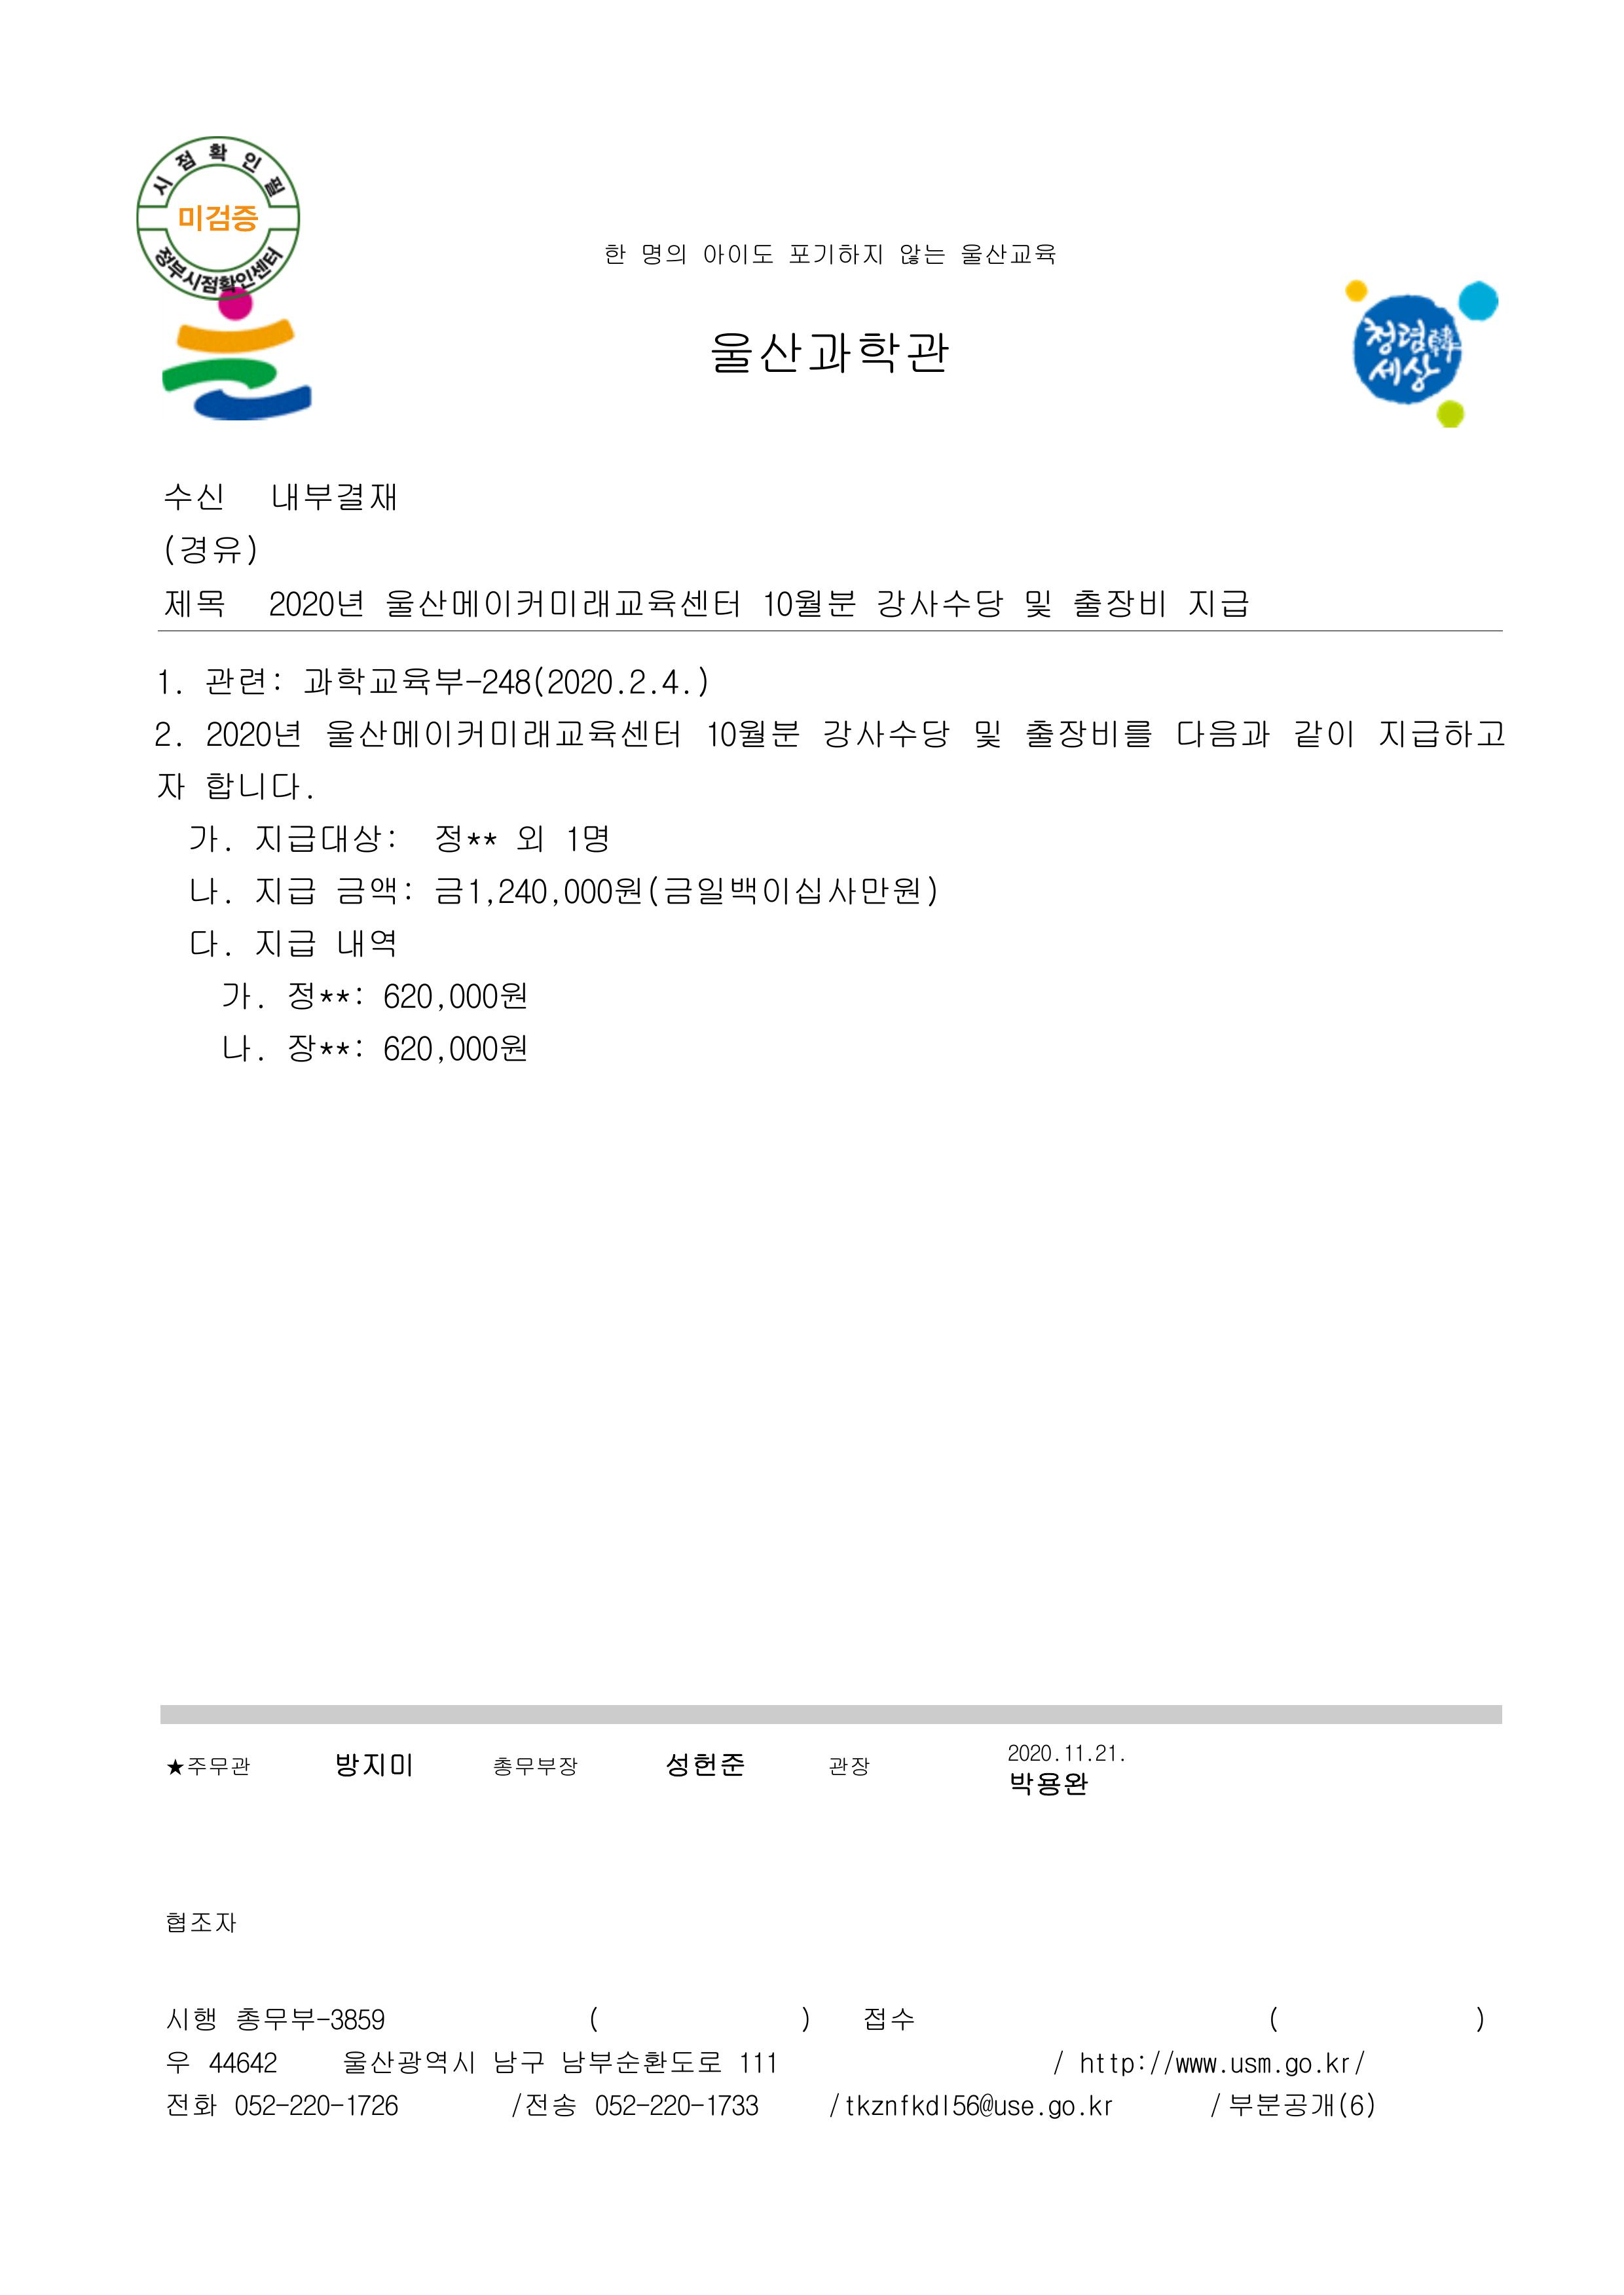t: (301, 662, 710, 699), (322, 717, 680, 756), (383, 583, 742, 620), (756, 327, 951, 380), (728, 872, 939, 907), (555, 2045, 724, 2081), (1373, 713, 1506, 754), (1225, 2088, 1378, 2123), (872, 583, 1004, 624), (821, 713, 951, 754), (1021, 713, 1151, 754), (269, 476, 397, 517), (251, 821, 397, 856), (431, 872, 562, 910), (341, 2047, 476, 2079), (1172, 713, 1272, 754), (204, 766, 308, 803), (701, 717, 800, 756), (1359, 315, 1452, 355), (162, 531, 258, 569), (265, 583, 366, 620), (1069, 583, 1169, 620), (761, 583, 856, 620), (204, 717, 301, 749), (176, 200, 258, 237), (445, 1028, 527, 1065), (1366, 351, 1438, 394), (661, 1748, 745, 1784), (334, 872, 417, 907), (559, 872, 642, 907), (645, 872, 728, 907), (283, 979, 366, 1014), (237, 2007, 329, 2037), (290, 2095, 401, 2119), (445, 979, 527, 1010), (334, 1750, 417, 1782), (1007, 1768, 1090, 1799), (204, 662, 272, 699), (380, 1028, 448, 1065), (431, 821, 501, 856), (162, 583, 227, 620), (1183, 583, 1248, 620), (1290, 717, 1355, 754), (789, 244, 886, 269), (961, 244, 1058, 269), (286, 1035, 366, 1065), (251, 924, 315, 961), (334, 924, 397, 961), (710, 329, 756, 380), (700, 239, 773, 269), (508, 2088, 576, 2119), (204, 2047, 279, 2075), (494, 1754, 580, 1778), (951, 2095, 1035, 2119), (165, 480, 227, 513), (251, 875, 315, 907), (1079, 2051, 1149, 2077), (380, 979, 438, 1010), (487, 2044, 545, 2075), (703, 2089, 763, 2119), (169, 1757, 251, 1778), (169, 1912, 239, 1937), (327, 2005, 387, 2033), (562, 821, 610, 856), (228, 2089, 279, 2119), (591, 2089, 642, 2119), (186, 924, 227, 961), (218, 1028, 258, 1065), (165, 2005, 218, 2033), (861, 2005, 914, 2033), (896, 239, 946, 269), (638, 239, 685, 269), (218, 979, 262, 1010), (165, 2095, 221, 2119), (186, 821, 227, 854), (649, 2095, 703, 2119), (845, 2095, 900, 2119), (186, 875, 228, 907), (735, 2047, 779, 2075), (513, 821, 548, 854), (972, 717, 1004, 754), (1281, 2056, 1325, 2082), (1165, 2054, 1220, 2075), (1048, 2096, 1090, 2123), (900, 2095, 944, 2119), (1007, 1743, 1058, 1764), (1021, 589, 1055, 620), (1323, 2051, 1366, 2075), (155, 771, 186, 803), (828, 1757, 872, 1778), (1086, 1743, 1123, 1768), (1230, 2054, 1272, 2075), (1062, 1743, 1093, 1768), (1086, 2096, 1116, 2119), (156, 720, 179, 749), (606, 244, 631, 269), (156, 671, 179, 696), (169, 2051, 190, 2075)
